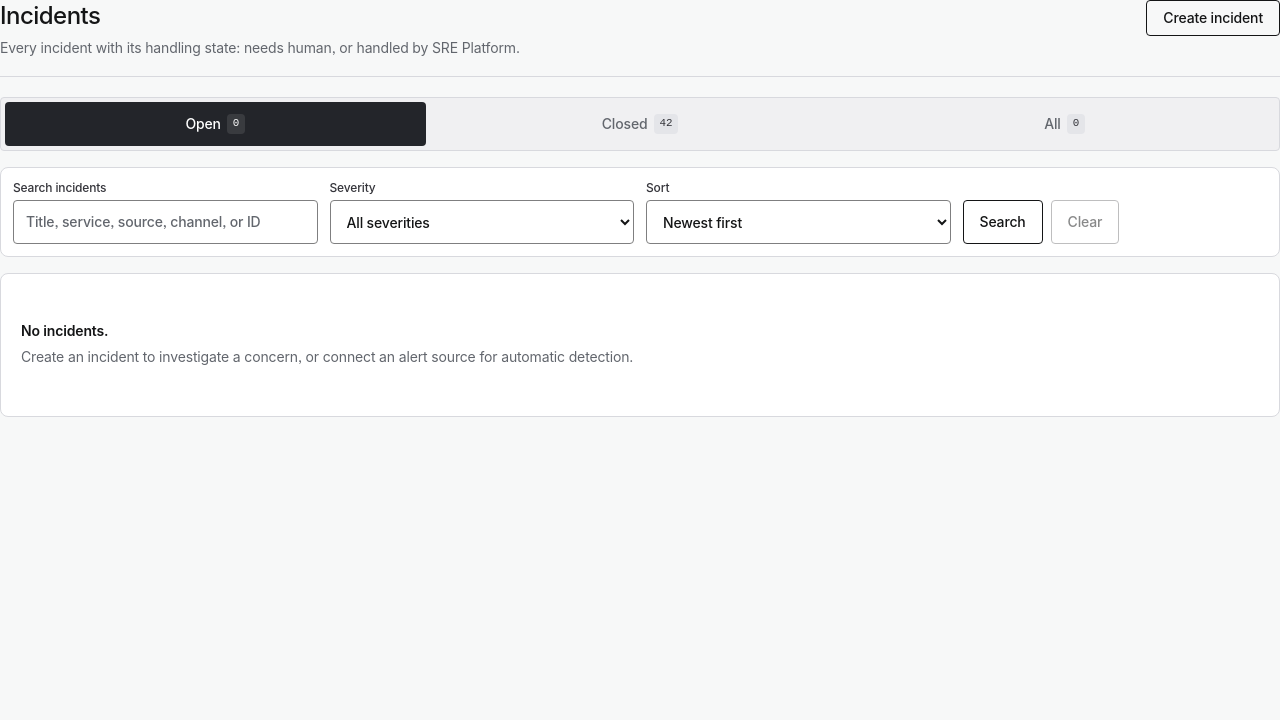
Test: IncidentsPanel pagination live region › a settled page announces the row delta of the page just appended, not a total
Click the tab "Closed 42": coordinates (640, 124) [430,102,850,146]
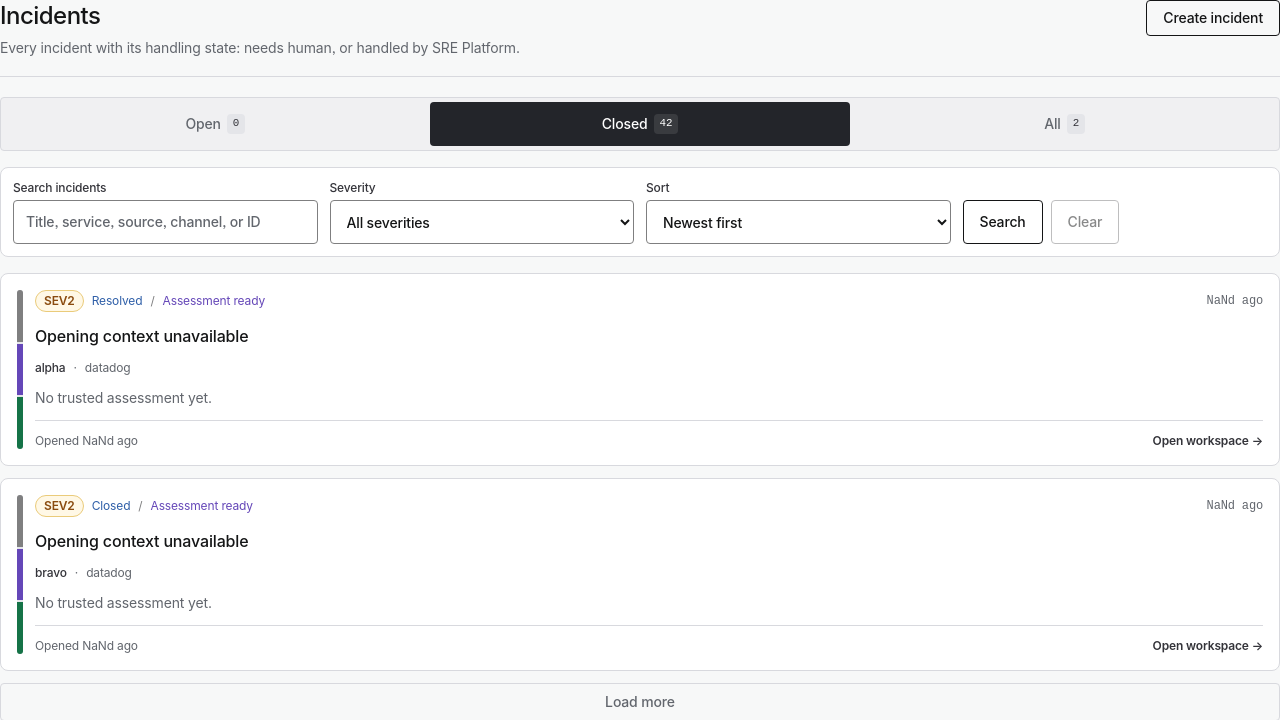
Click the button "Load more": coordinates (640, 702) [0,683,1279,719]
(page scrolled)
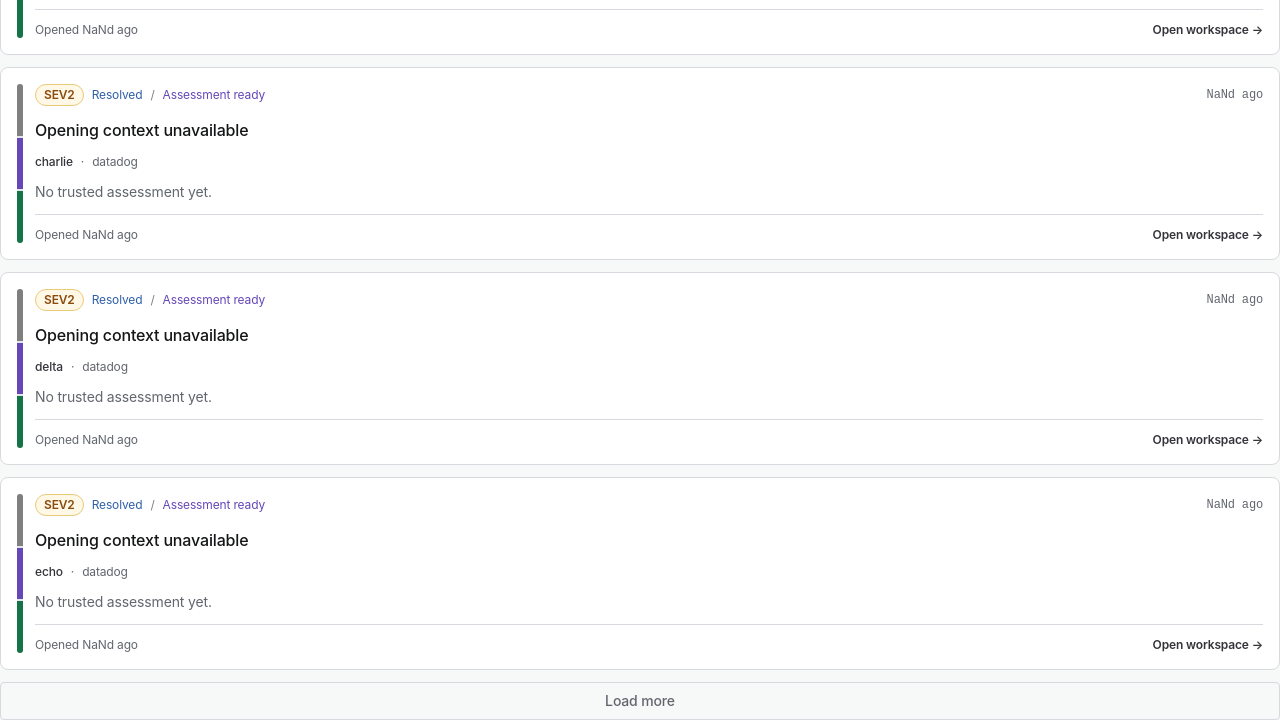
Now the text "charlie" is shown, box [35,154,73,170]
Now the text "echo" is shown, box [35,564,63,580]
